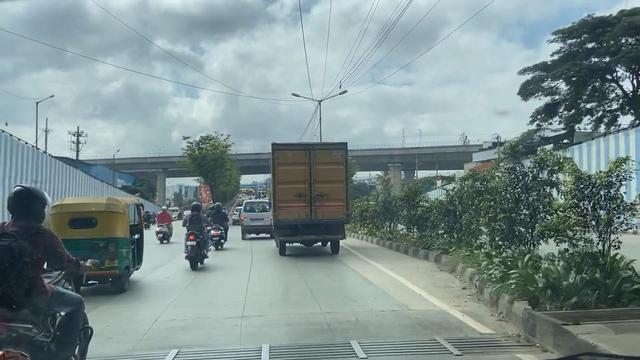HMV: (272, 142, 350, 256)
LMV: (50, 189, 153, 285), (177, 202, 210, 271), (212, 198, 233, 255), (241, 199, 271, 238)
